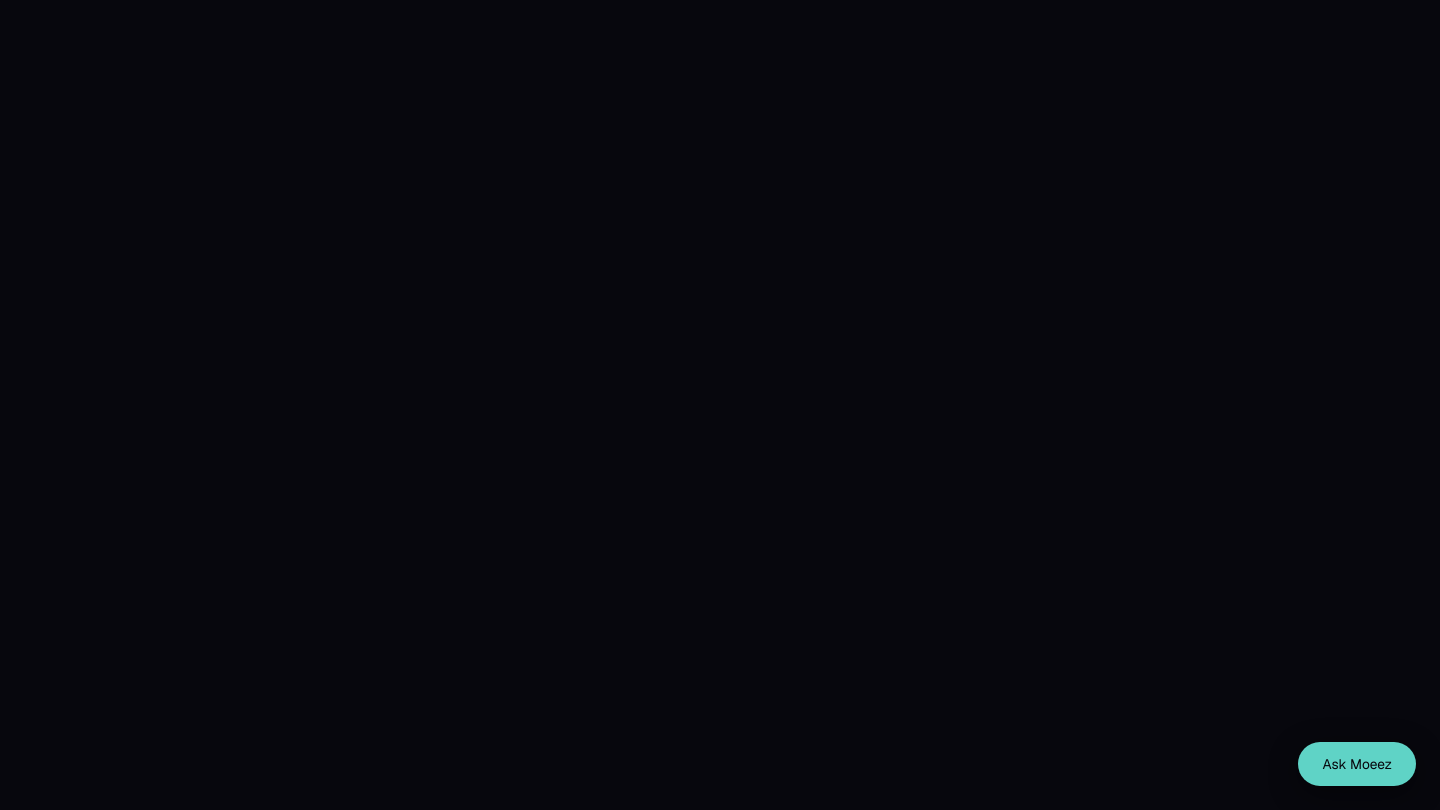
Scenario: ChatDock › renders a refusal exactly like any other answer
This screenshot has width=1440, height=810.
Click the button "Ask Moeez" at (1357, 764), box [1298, 742, 1416, 786]
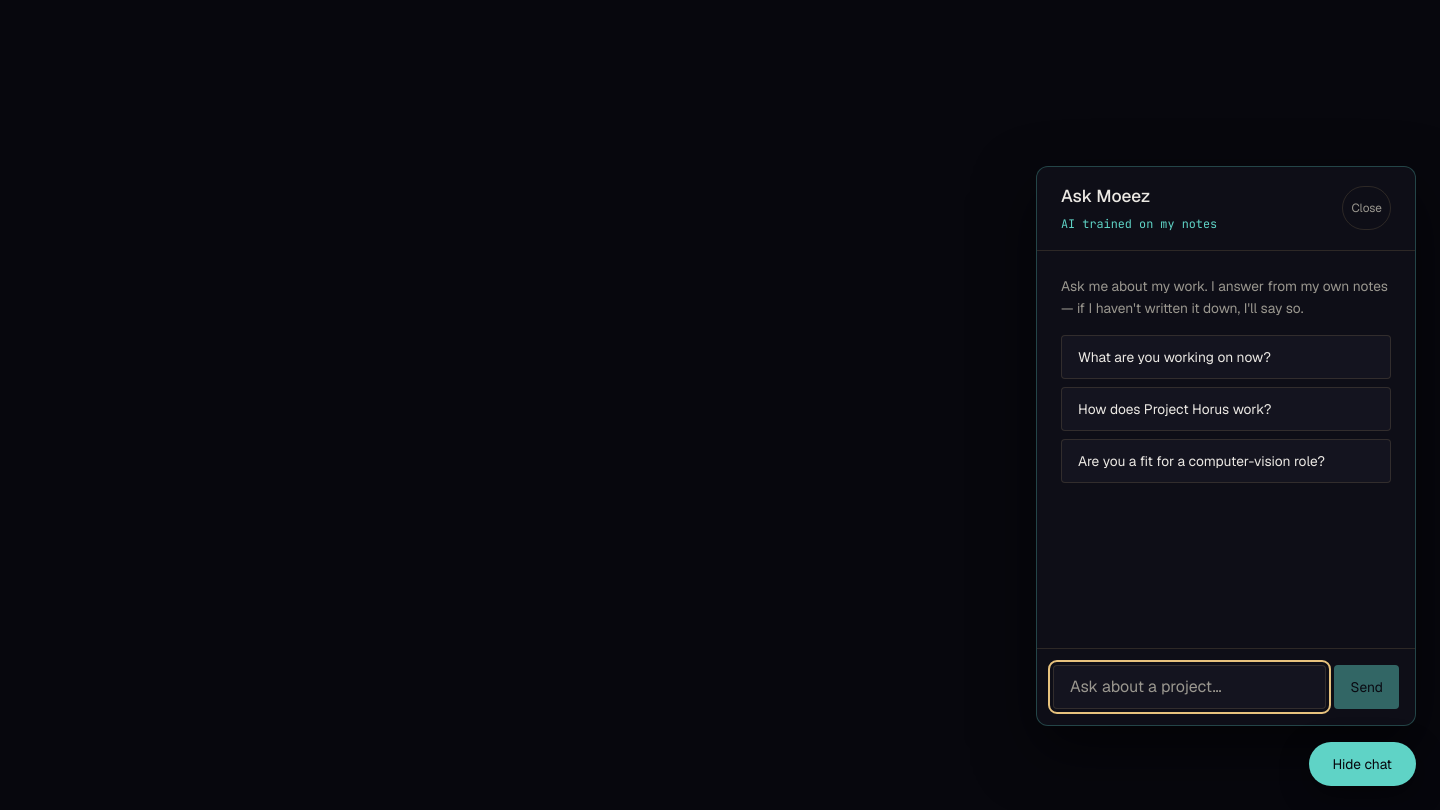
Type "favourite film?" into the field at (1190, 687), box [1053, 665, 1326, 709]
Then press Enter
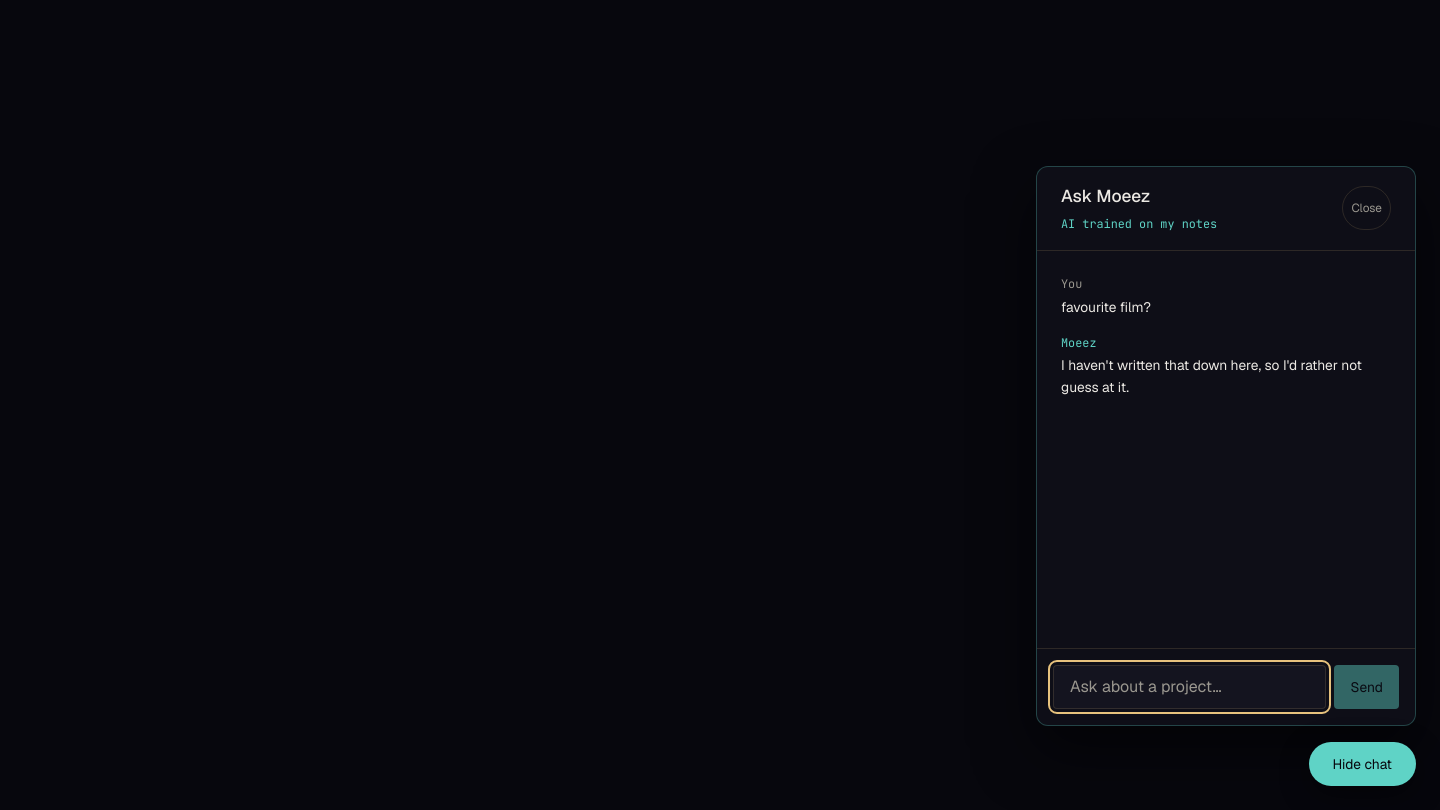
Now the list shows "haven't written that down", box [1061, 356, 1366, 396]
Now the number of list items with class "chat__msg--moeez" is 1, box [1061, 334, 1391, 398]
